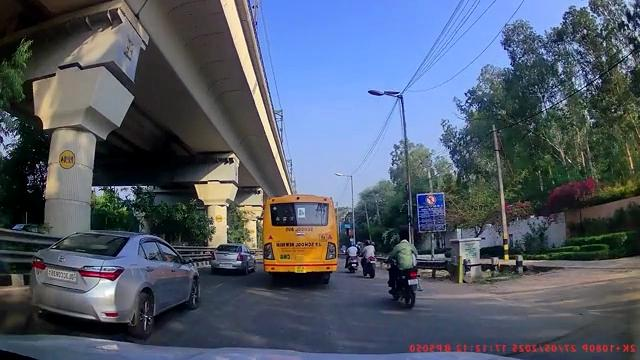motorcycle_without_helmet: (387, 230, 421, 309)
